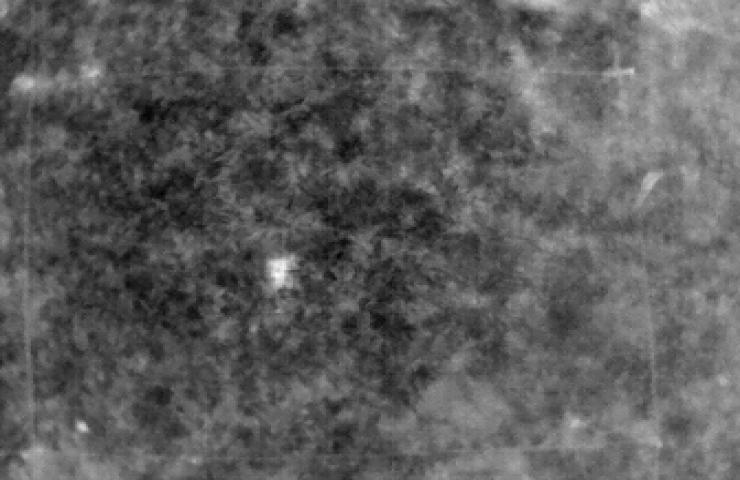landmines: (268, 254, 296, 288)
